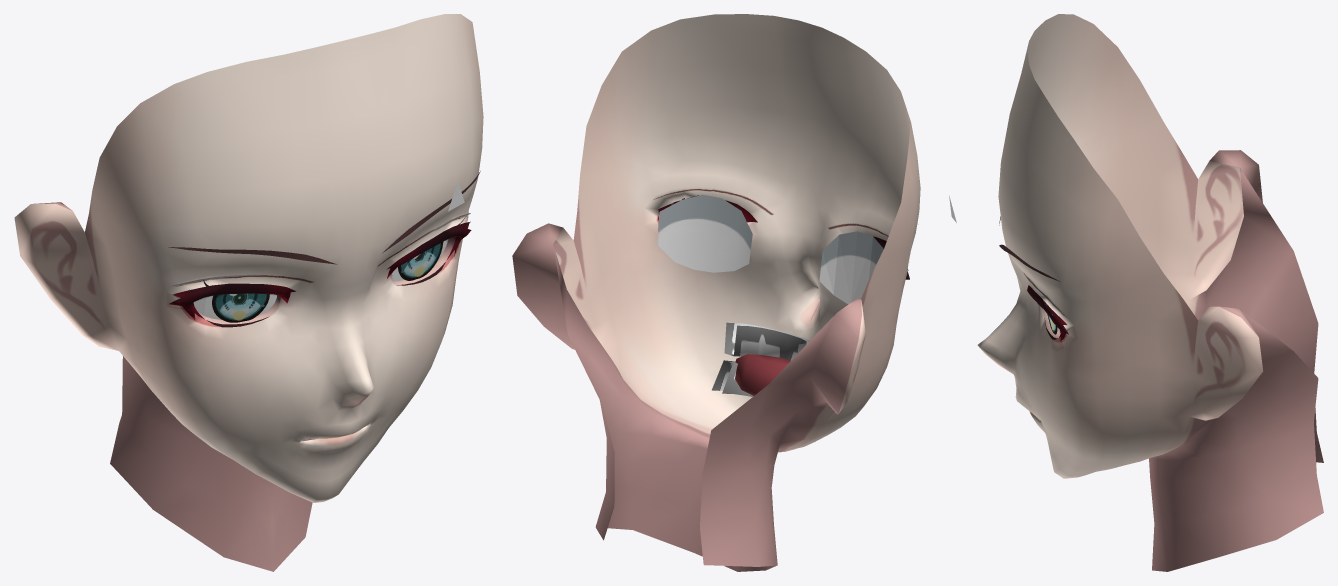
The model's file is Arianrhod_face.FBX.
3 views of the same model, side by side, from view 1: azimuth 30°, elevation 25°; view 2: azimuth 150°, elevation 25°; view 3: azimuth 270°, elevation 25° (orthographic). The views are drawn at different scales.
Parts seen in each view (by area): view 1: face; view 2: face; view 3: face.
Part boxes in pixels (bbox=[...]): face: bbox=[14, 14, 483, 571]; face: bbox=[512, 14, 920, 571]; face: bbox=[949, 14, 1323, 571].
Size of the model in its own units: 14.72 by 20.6 by 13.51.
